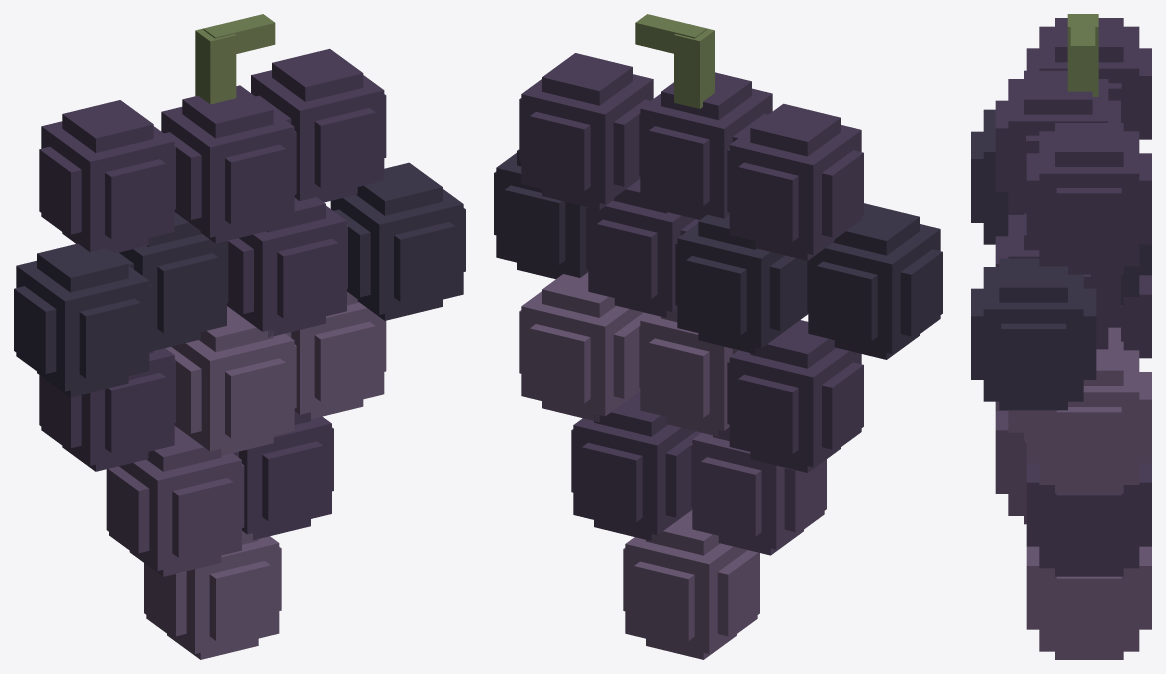
Rendered from GR-06_autumn_royal.glb.
The picture shows the model from 3 angles, left to right: view 1: azimuth 30°, elevation 25°; view 2: azimuth 150°, elevation 25°; view 3: azimuth 270°, elevation 25°; orthographic projection. The views are drawn at different scales.
Visible parts, largest first — view 1: Autumn Royal · original workbench cubes; view 2: Autumn Royal · original workbench cubes; view 3: Autumn Royal · original workbench cubes.
Boxes of the visible parts, x1,y1,x2,y2 form: Autumn Royal · original workbench cubes: [14, 14, 465, 659]; Autumn Royal · original workbench cubes: [494, 14, 942, 659]; Autumn Royal · original workbench cubes: [971, 14, 1151, 659].
Bounding box in the file's own units: 0.1611 × 0.2239 × 0.0586.
